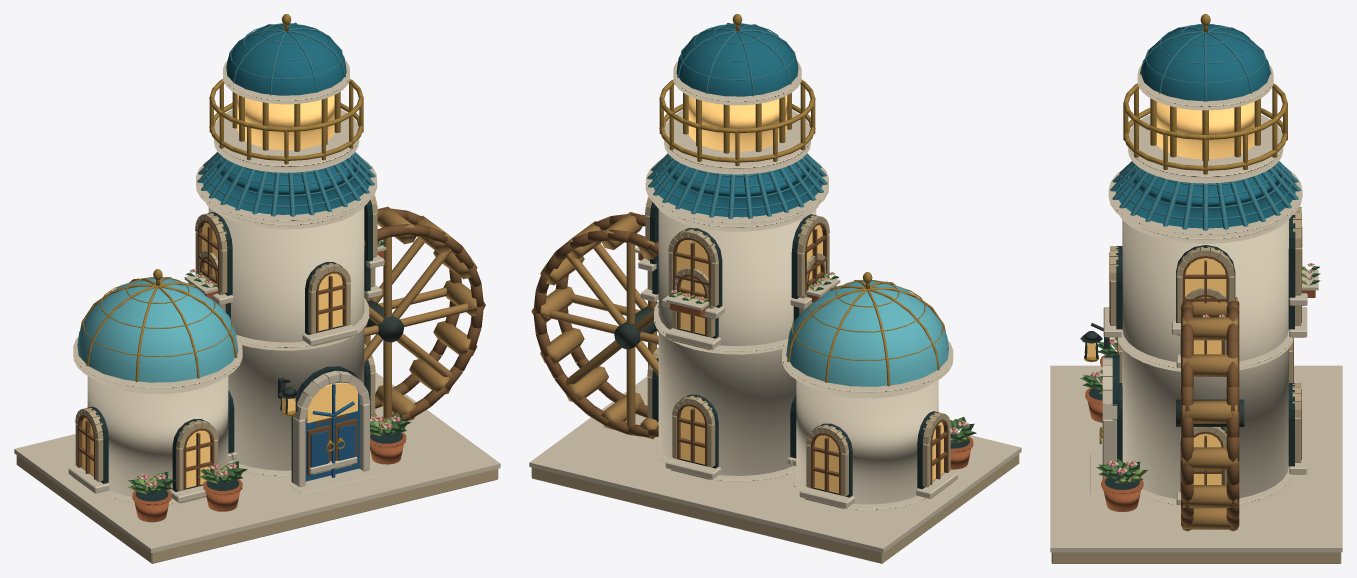
3 renders of one model, left to right at view 1: azimuth 30°, elevation 25°; view 2: azimuth 150°, elevation 25°; view 3: azimuth 270°, elevation 25°, orthographic. The views are drawn at different scales.
Visible parts, largest first — view 1: harbor_lighthouse_geometry, harbor_lighthouse_waterwheel_geometry_geometry; view 2: harbor_lighthouse_geometry, harbor_lighthouse_waterwheel_geometry_geometry; view 3: harbor_lighthouse_geometry, harbor_lighthouse_waterwheel_geometry_geometry.
Boxes of the visible parts, box(x1,y1,x2,y2) form: harbor_lighthouse_geometry: box(14, 14, 500, 563); harbor_lighthouse_waterwheel_geometry_geometry: box(364, 206, 485, 427); harbor_lighthouse_geometry: box(529, 14, 1021, 563); harbor_lighthouse_waterwheel_geometry_geometry: box(531, 212, 658, 439); harbor_lighthouse_geometry: box(1050, 14, 1342, 563); harbor_lighthouse_waterwheel_geometry_geometry: box(1176, 297, 1244, 531).
Bounding box in the file's own units: 2.8 × 3.01 × 1.67.
